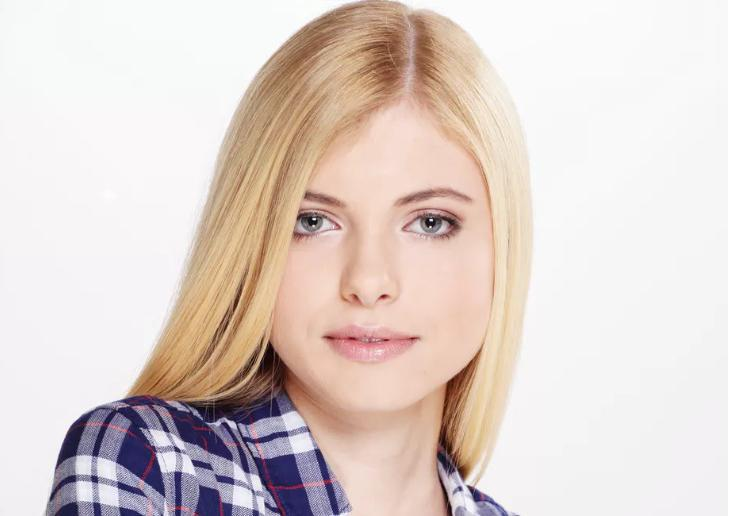face: (259, 107, 487, 410)
